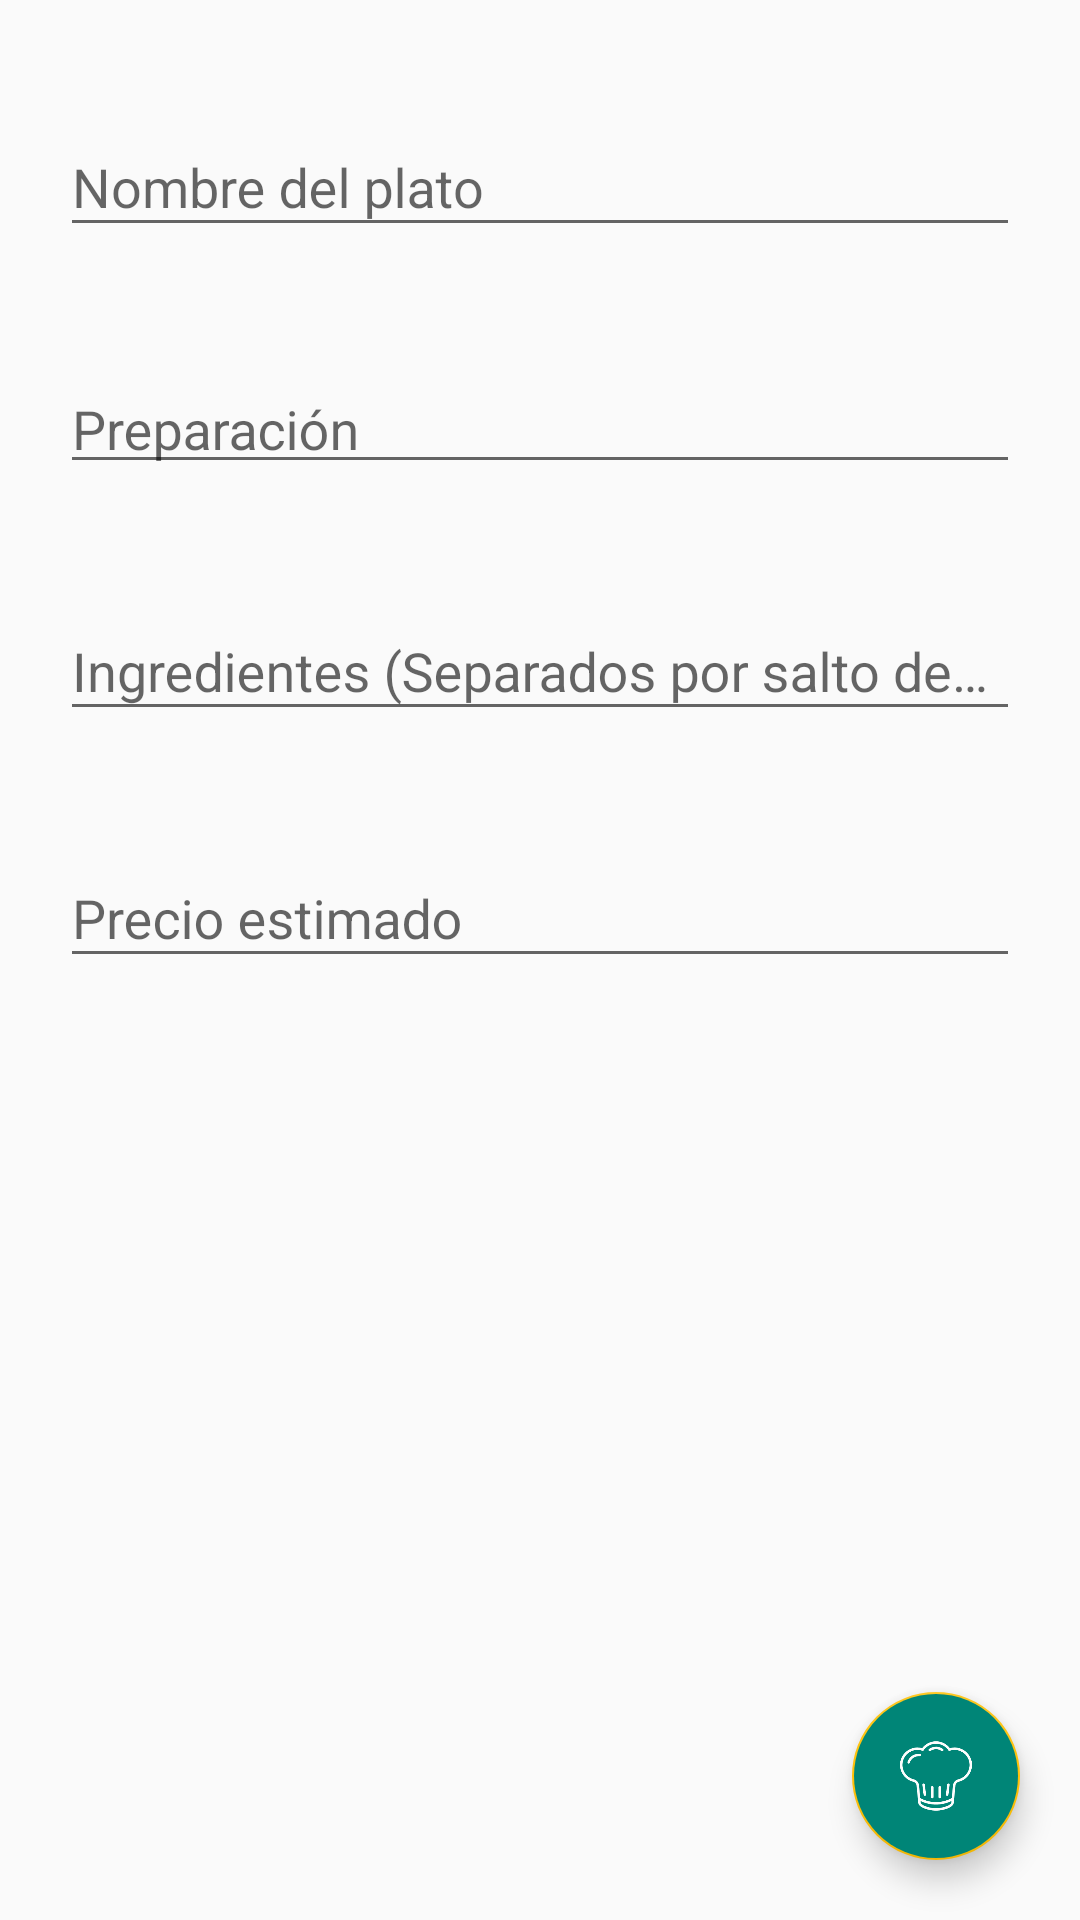

Named icons in this screenshot (1080px×1920px) and their bounding boxes, [x1=x1, y1=y1, x2=x2, y2=y2]:
chef: [x1=852, y1=1692, x2=1020, y2=1860]
